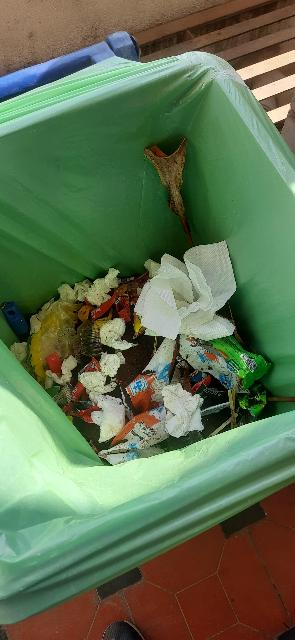Disposable: (78, 318, 107, 358)
Garbage: (2, 241, 295, 465)
Plastic_Bag: (30, 300, 81, 381), (99, 406, 169, 465), (126, 339, 176, 414), (201, 402, 230, 416)
Plastic_wraper: (209, 336, 271, 389), (180, 335, 239, 389), (239, 382, 268, 420), (70, 401, 100, 422), (115, 296, 131, 322), (132, 312, 146, 339)
